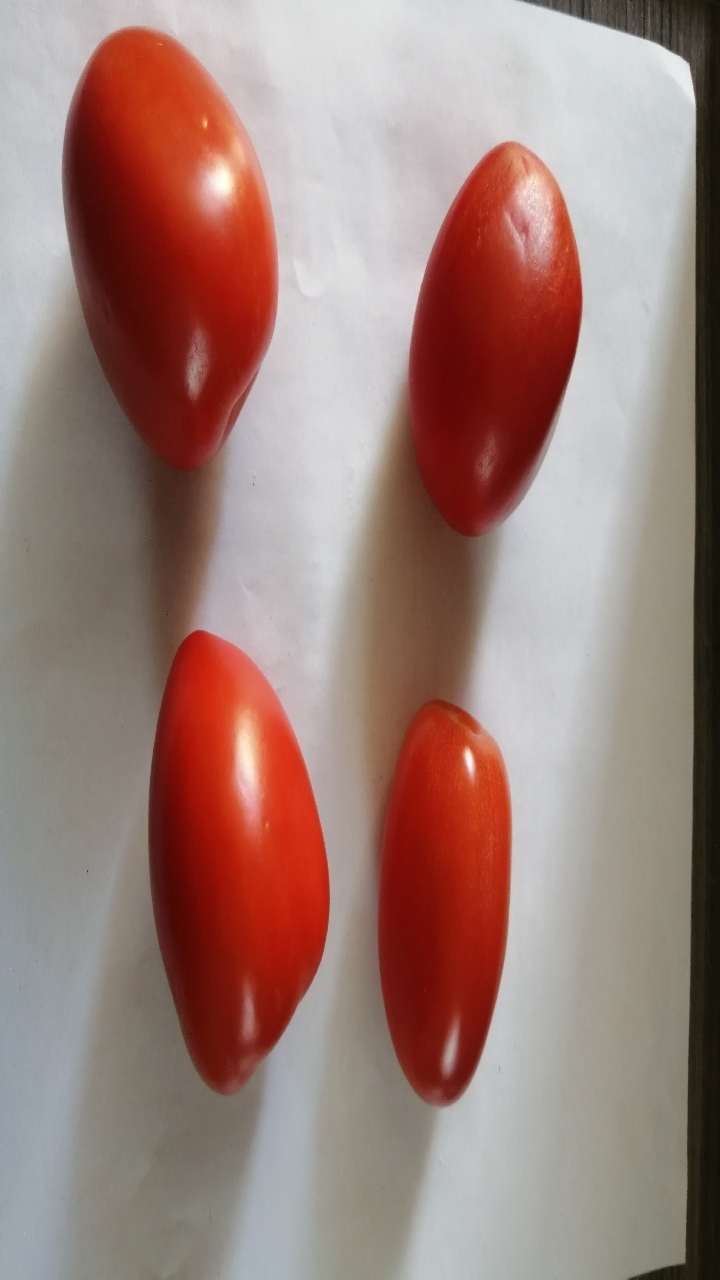tomateRojo: (40, 19, 323, 474), (121, 609, 349, 1122), (384, 115, 575, 542), (360, 677, 524, 1142)
